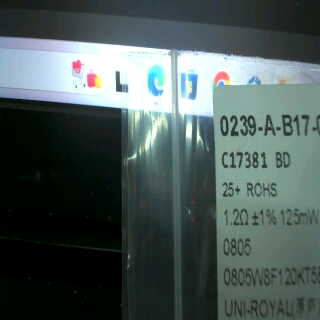1.2R: (220, 204, 256, 262)
